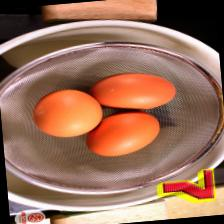egg: (86, 68, 178, 115), (82, 108, 163, 160), (30, 86, 104, 140)
